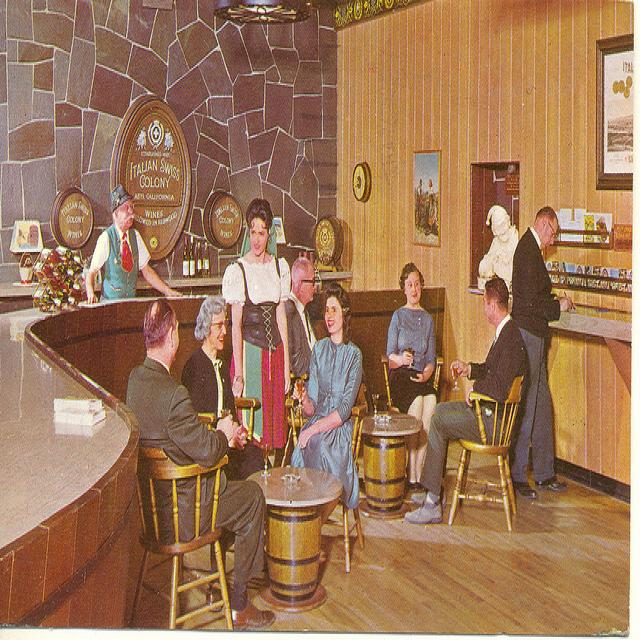chair: (132, 446, 234, 631), (280, 383, 369, 574), (448, 383, 525, 526), (381, 351, 444, 414), (197, 397, 260, 440)
dining table: (248, 464, 342, 612), (361, 410, 423, 519)
